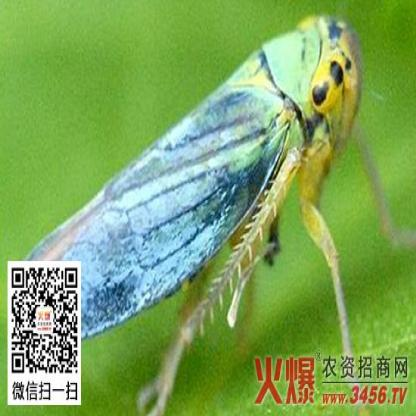Green-Leafhopper: (19, 13, 416, 366)
